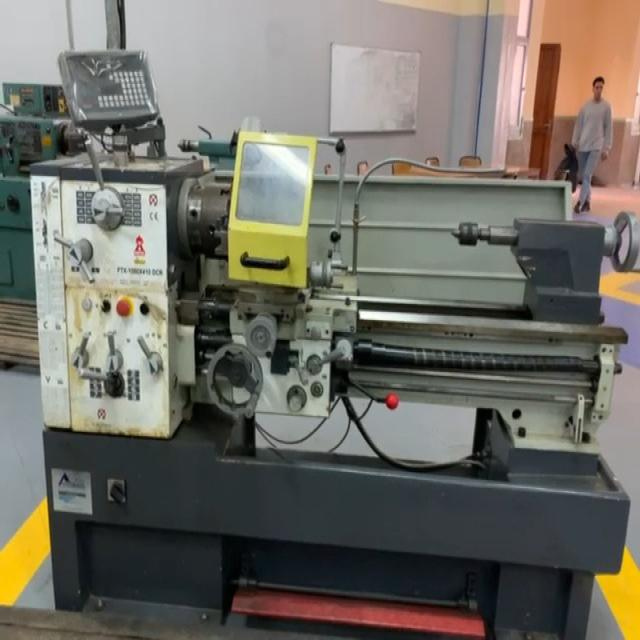tour parallele: (26, 51, 640, 640)
